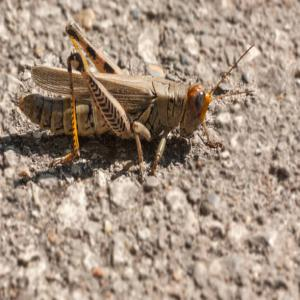locust: (22, 22, 235, 192)
